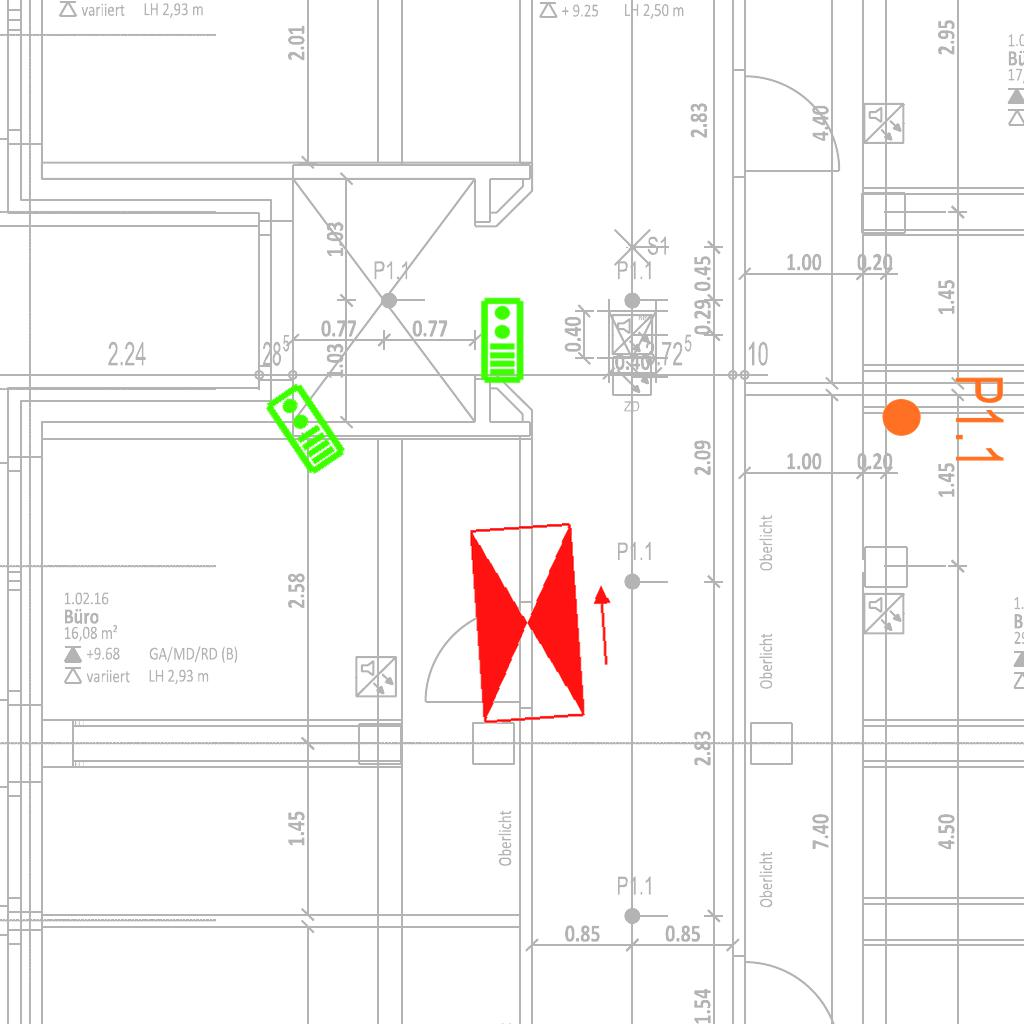Downlight_LED_Einbauleuchten_Flur_2: (879, 374, 1007, 467)
Fluchtwegpiktogramm: (462, 513, 625, 731)
Gegensprechanlage_mit_Video: (260, 379, 349, 479), (478, 296, 525, 384)
